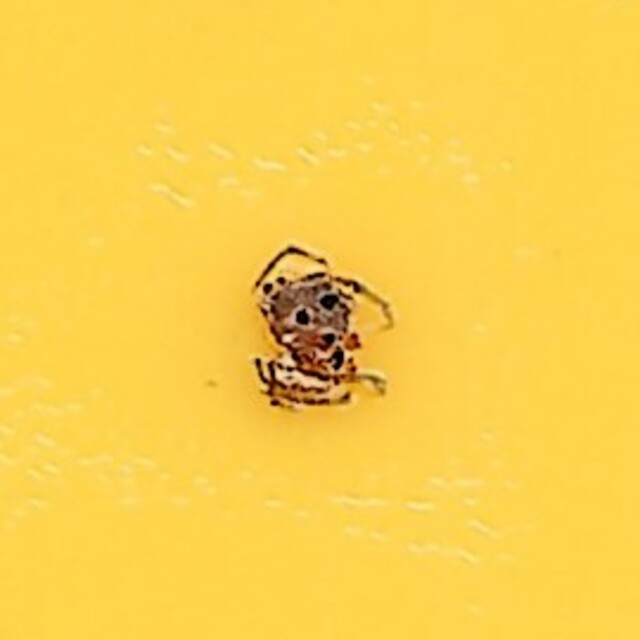Araneae: (237, 225, 403, 415)
